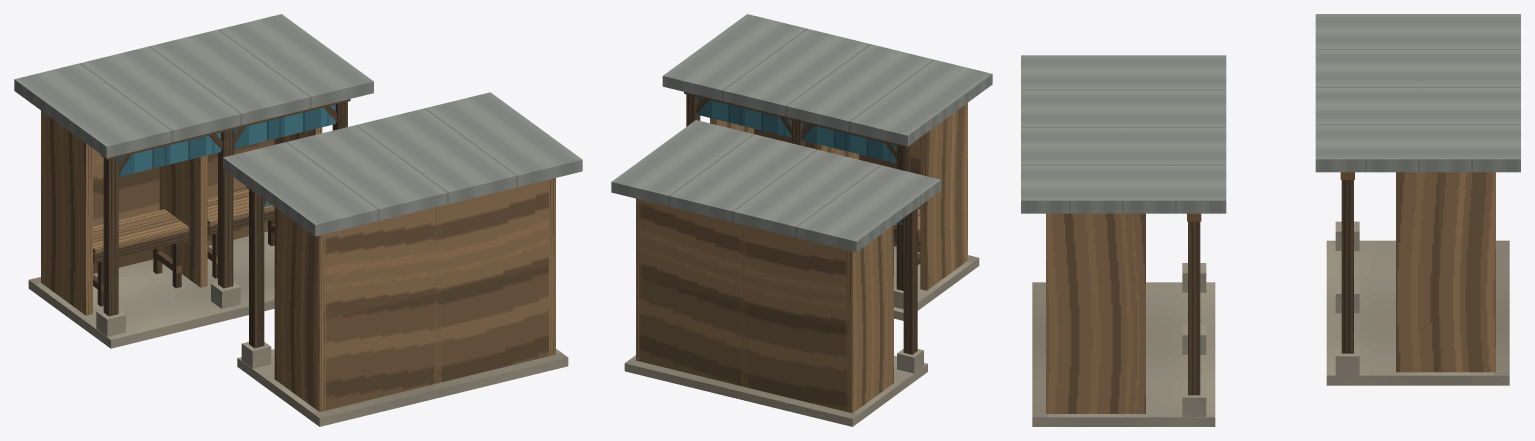
Rendered from sanaa.glb.
The picture shows the model from 3 angles, left to right: view 1: azimuth 30°, elevation 25°; view 2: azimuth 150°, elevation 25°; view 3: azimuth 270°, elevation 25°; orthographic projection. The views are drawn at different scales.
Parts seen in each view (by area): view 1: sanaa; view 2: sanaa; view 3: sanaa.
Part boxes in pixels (x1,y1,x2,y2): sanaa: (14, 14, 582, 426); sanaa: (611, 14, 992, 426); sanaa: (1021, 14, 1520, 426).
Bounding box in the file's own units: 4.33 × 2.5 × 4.9.
1 material, 1 textured.
